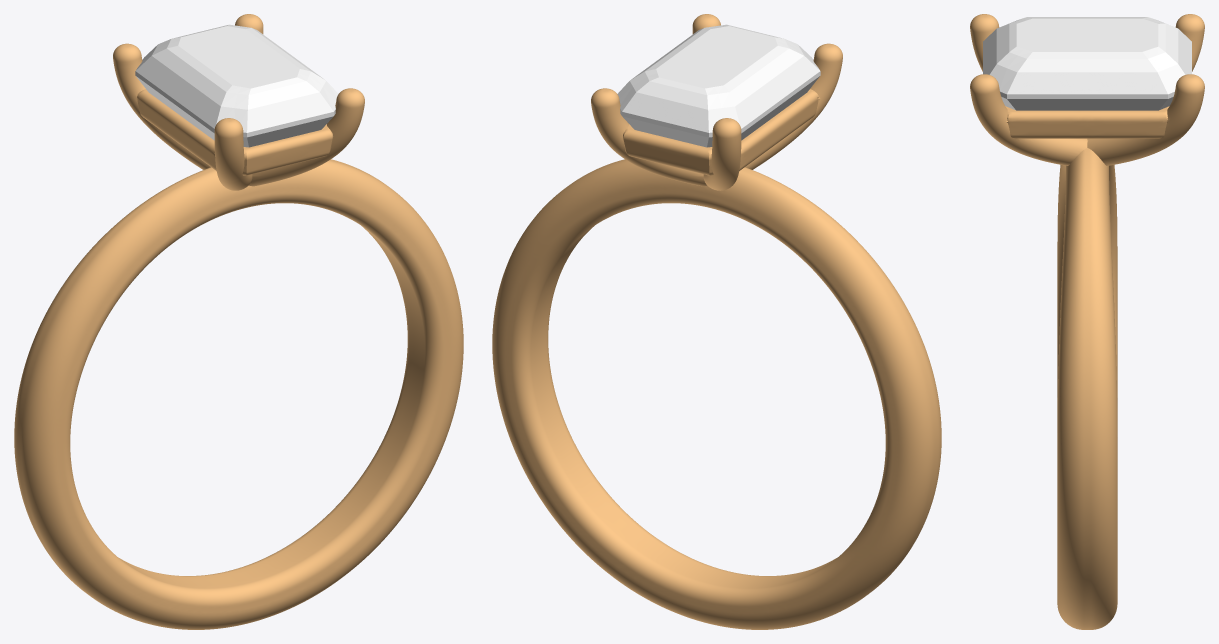
The picture shows the model from 3 angles, left to right: view 1: azimuth 30°, elevation 25°; view 2: azimuth 150°, elevation 25°; view 3: azimuth 270°, elevation 25°; orthographic projection.
Bounding box in the file's own units: 2.43 × 2.98 × 1.11.
